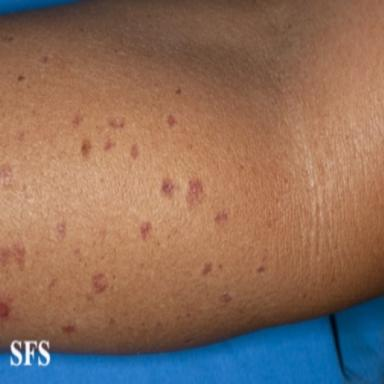Porokeratosis: (0, 243, 25, 270), (186, 179, 203, 210), (91, 273, 107, 295), (0, 165, 13, 189), (215, 208, 229, 225), (161, 179, 174, 197), (140, 222, 151, 240), (55, 222, 66, 240), (0, 300, 10, 318), (109, 118, 125, 128), (104, 138, 115, 152), (61, 324, 76, 333), (72, 115, 83, 127), (131, 144, 139, 160), (203, 262, 212, 276), (221, 293, 232, 303), (167, 115, 176, 127), (257, 264, 267, 273)
